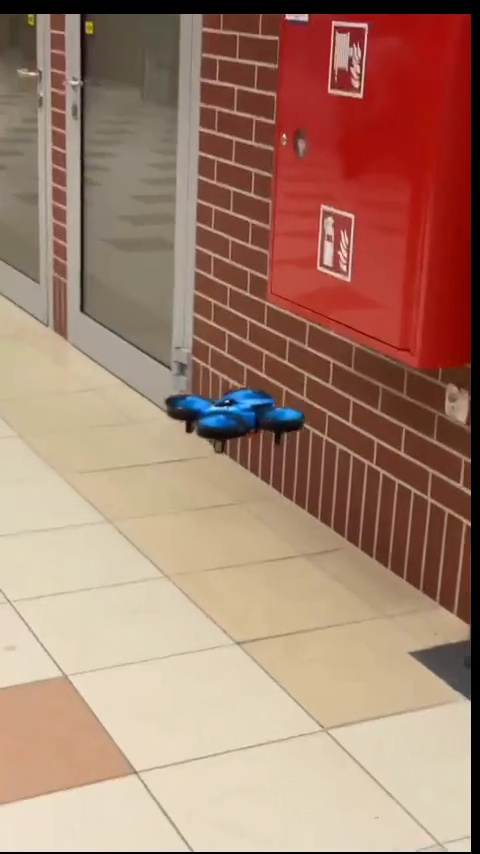drone: (166, 385, 295, 449)
